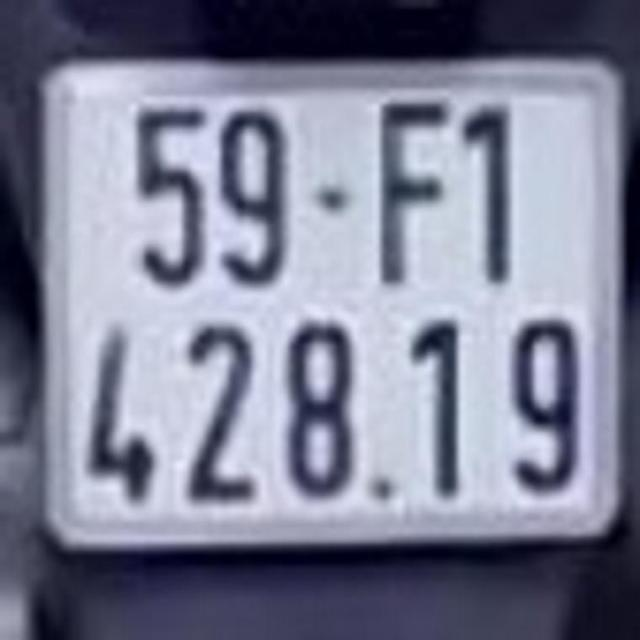1: (390, 297, 493, 497), (460, 76, 542, 287)
2: (176, 294, 267, 508)
4: (71, 291, 160, 512)
5: (125, 82, 207, 289)
8: (280, 286, 364, 499)
9: (502, 286, 590, 499), (216, 67, 300, 287)
F: (364, 68, 454, 287)
